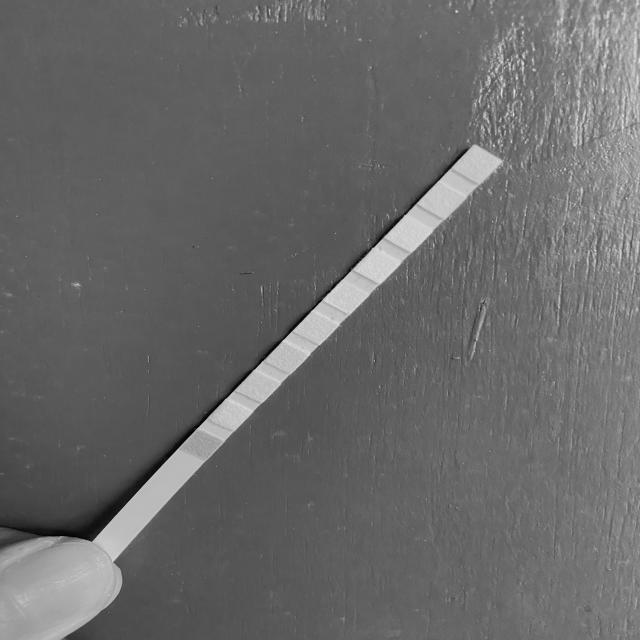Bilirubin: (219, 406, 242, 422)
Blood: (303, 321, 327, 336)
Glucose: (190, 437, 214, 453)
Ketone: (247, 379, 270, 395)
Leukocytes: (464, 154, 492, 174)
Nitrite: (428, 192, 455, 210)
Protein: (365, 258, 388, 274)
SpGravity: (274, 350, 298, 366)
Urobilinogen: (394, 226, 422, 243)
background: (0, 0, 640, 640)
pH: (334, 290, 357, 306)
strip: (95, 144, 505, 553)
